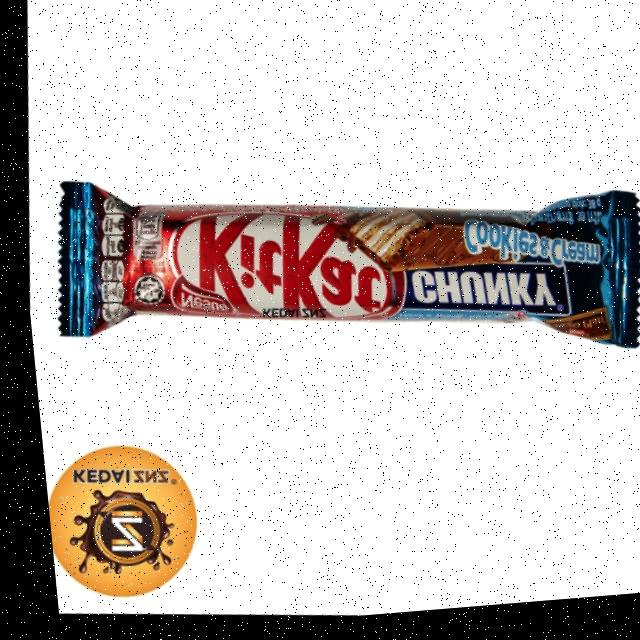kitkat: (41, 147, 640, 390)
